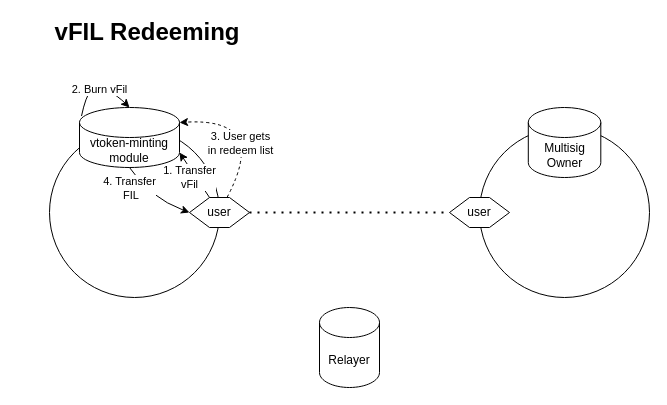
Image size: 667x405. Some labels were removed from this diagram. Here are the shapes that lost their labels. From the top down, the box of each, then its label:
(48, 126, 220, 298): Bifrost
(478, 126, 650, 298): Filecoin
